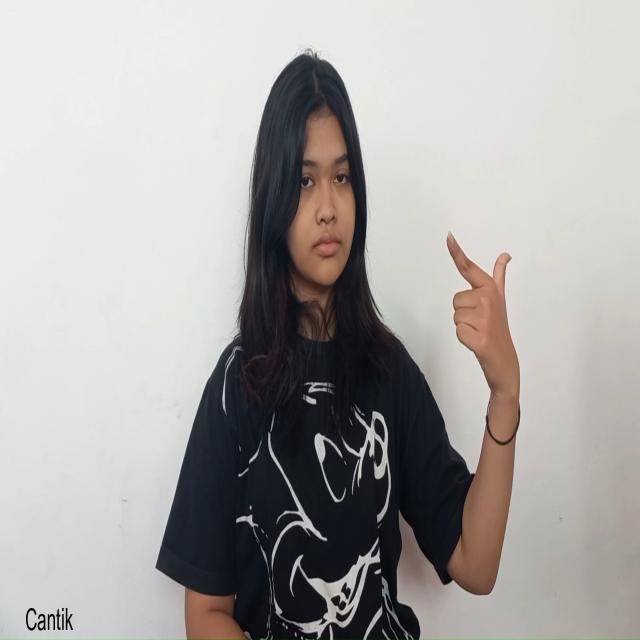Cantik -BISINDO-: (445, 230, 522, 420)
